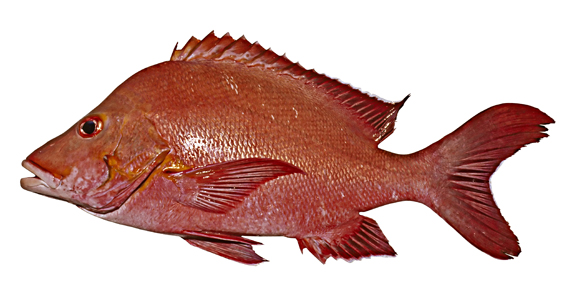fish: (19, 30, 556, 266)
